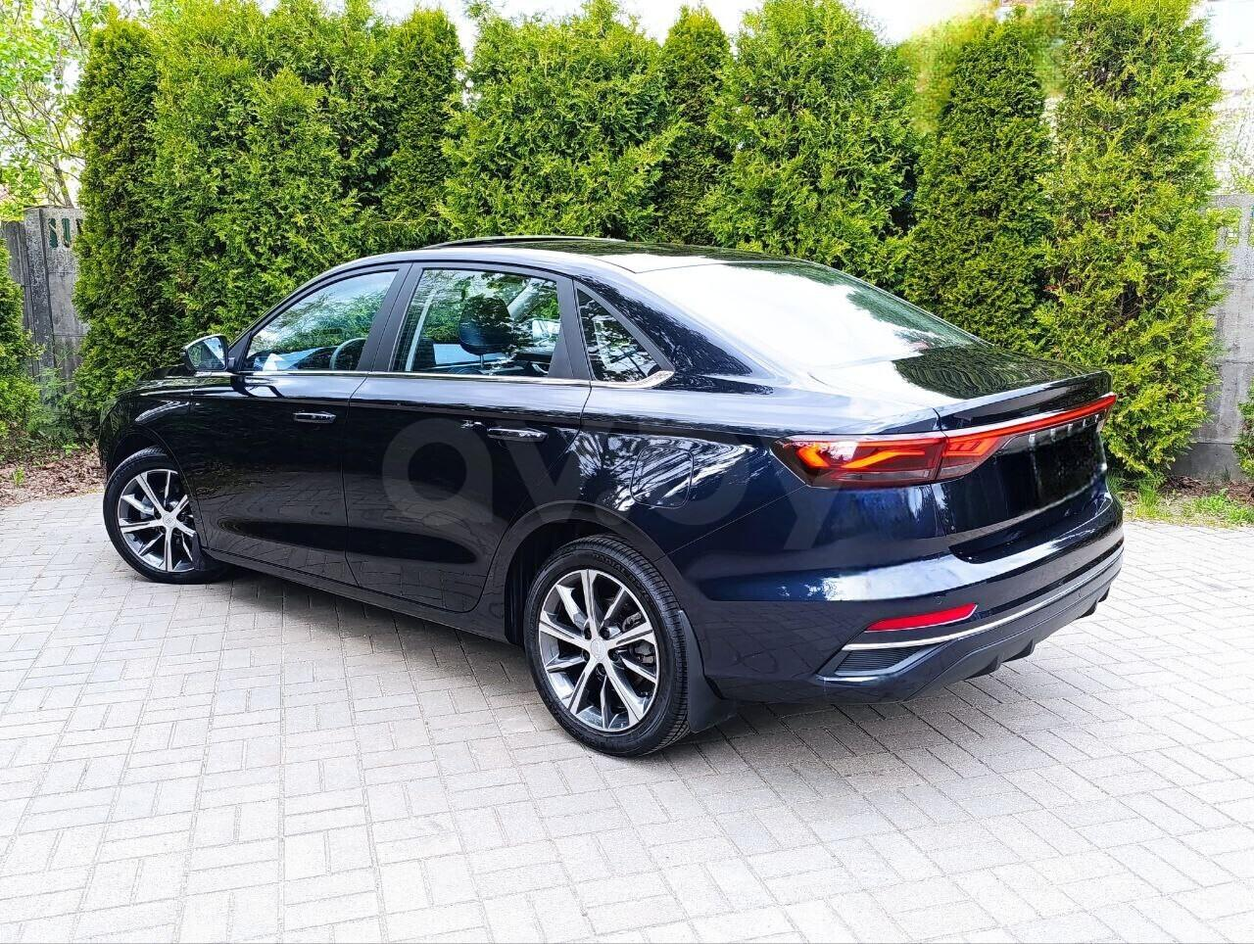Emgrand_2021: (98, 230, 1129, 764)
